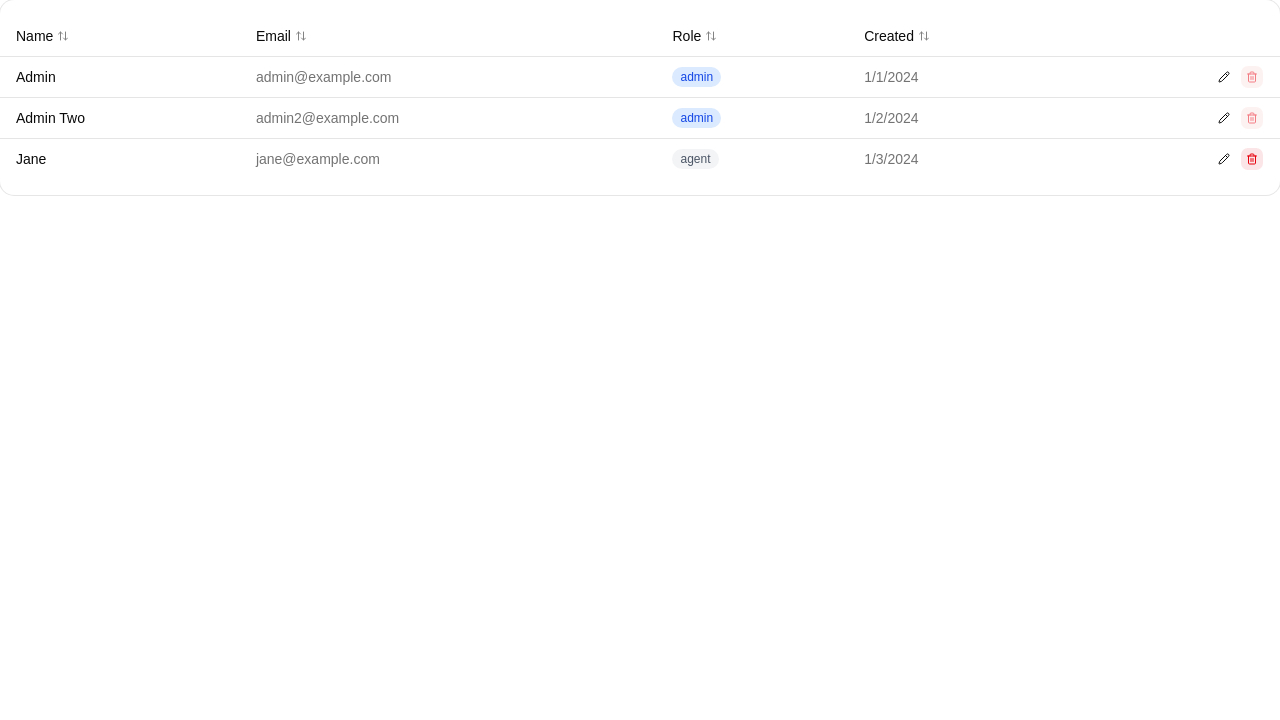
Test case: UserTable › confirmation dialog › opens the dialog with user name when trash is clicked
This screenshot has width=1280, height=720.
Click the button named "delete user" in the row of "jane@example.com".
click(1252, 158)  # box [1240,146,1264,170]
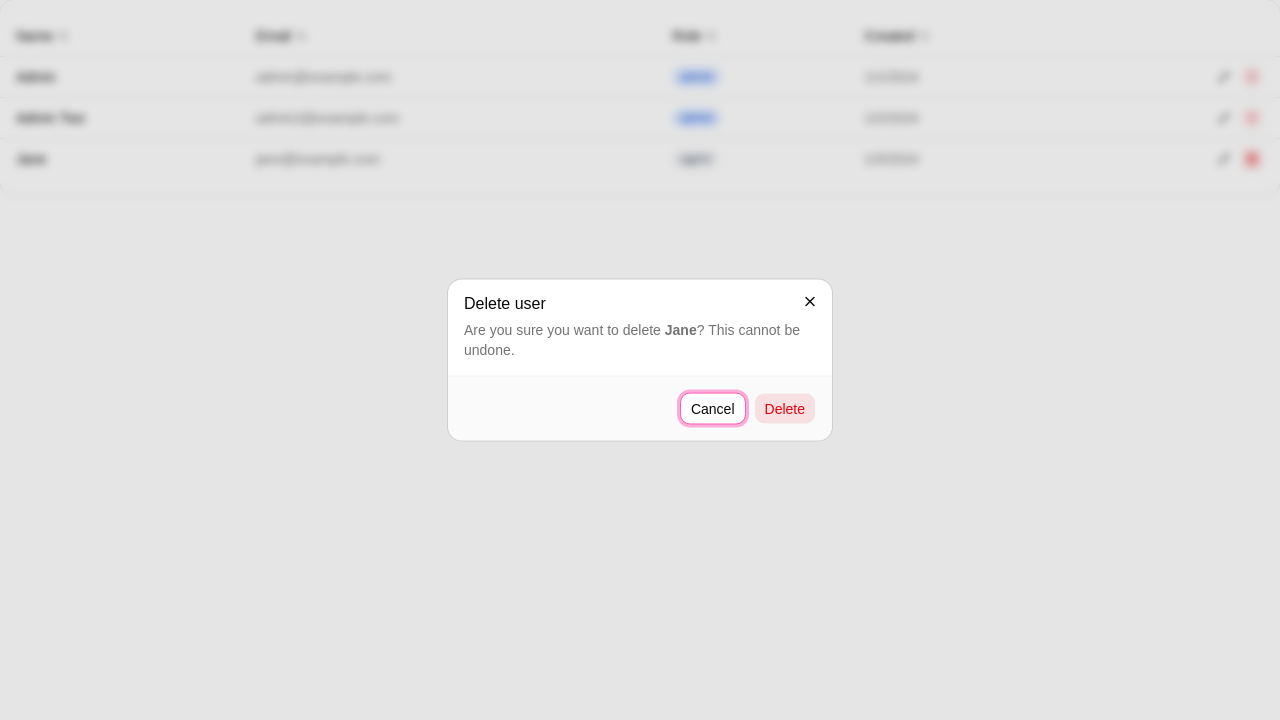
Now the dialog is shown, box [448,280,832,440]
Now the text "Jane" is shown, box [665,322,697,338]
